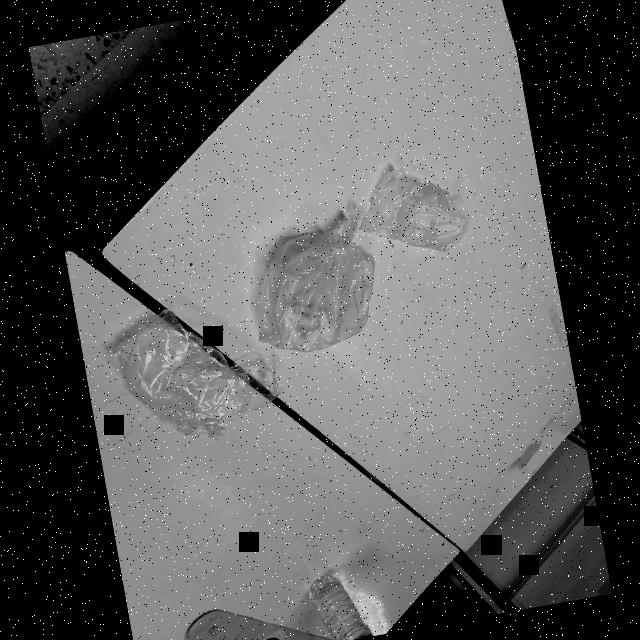plastic_bag: (103, 290, 276, 457), (240, 220, 388, 368), (351, 153, 480, 267)
